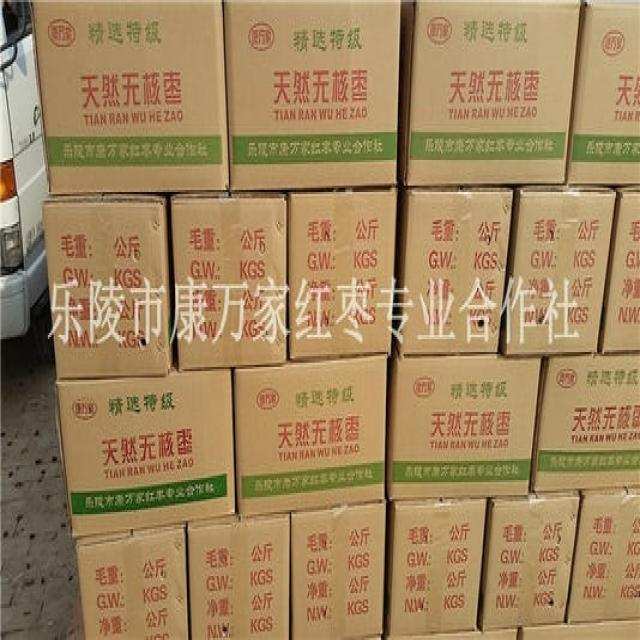box: (31, 2, 229, 192), (223, 1, 403, 190), (400, 2, 585, 184), (55, 373, 236, 538), (385, 336, 542, 502), (43, 191, 173, 376), (235, 358, 388, 514), (169, 193, 287, 374), (499, 185, 618, 357), (393, 185, 512, 356), (289, 186, 398, 361), (531, 354, 638, 493), (476, 491, 581, 631), (384, 501, 487, 636), (568, 2, 639, 186), (290, 504, 385, 638), (75, 527, 191, 636), (186, 516, 290, 635), (565, 483, 639, 621), (599, 183, 639, 354), (519, 619, 639, 637), (383, 625, 521, 638)
